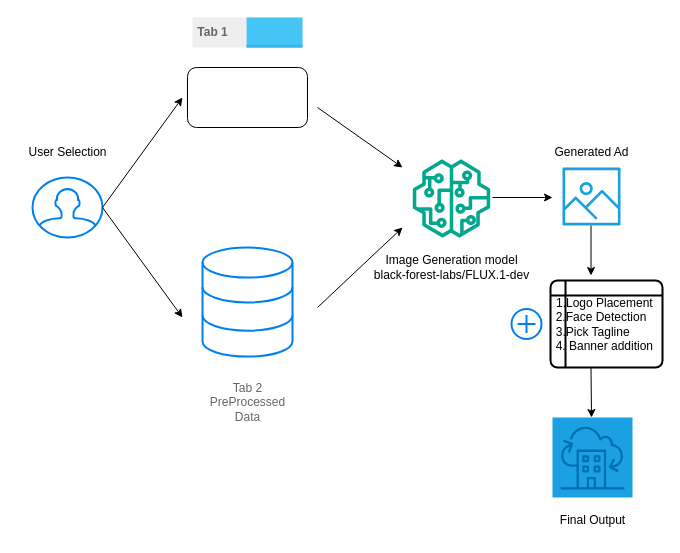
This 680x553 diagram has some shape labels left out. The box of each missing label's shape, as (x1, y1, x2, y2) in pixels:
Tab 1 User Form: (186, 66, 308, 128)
Tab 2: (246, 17, 302, 47)
